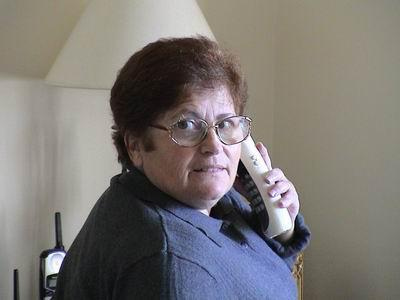person: (57, 36, 311, 300)
